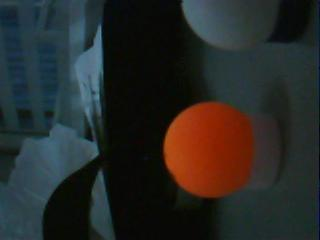oball: (163, 102, 254, 199)
